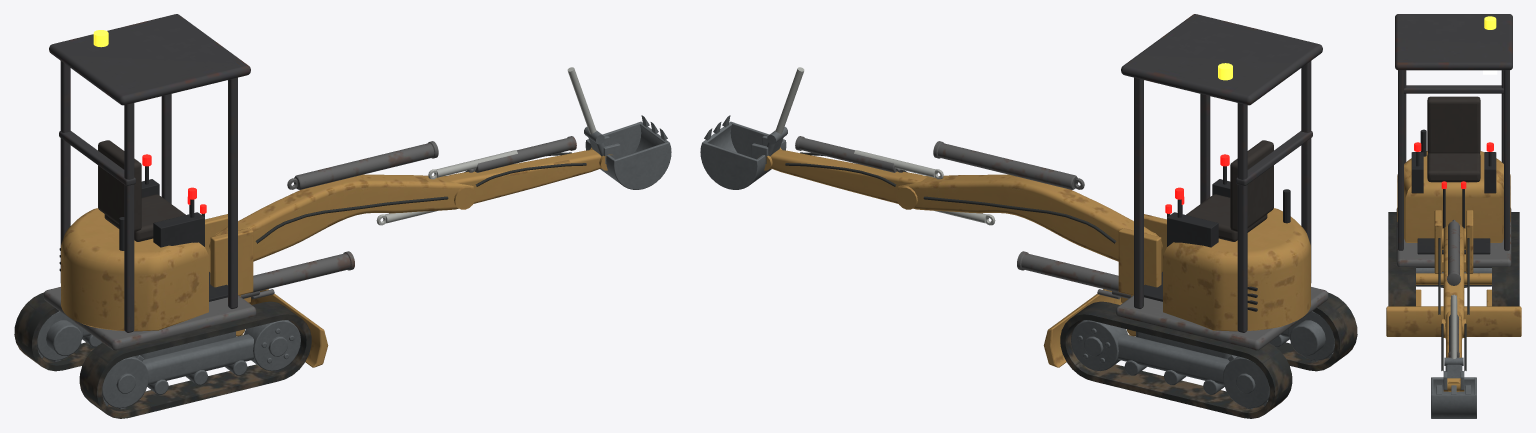
Rendered from minidigger_rusty.glb.
3 renders of one model, left to right at view 1: azimuth 30°, elevation 25°; view 2: azimuth 150°, elevation 25°; view 3: azimuth 270°, elevation 25°, orthographic. The views are drawn at different scales.
Visible parts, largest first — view 1: Canopy, HouseBody, TrackBand, BoomBody, Undercarriage, StickBody, BucketBody, Seat, Deck, BoomMount, StickRam, Controls (+8 smaller); view 2: Canopy, HouseBody, TrackBand, BoomBody, Undercarriage, StickBody, BucketBody, Seat, Deck, BoomMount, StickRam, Controls (+8 smaller); view 3: Canopy, HouseBody, Seat, BladeBody, TrackBand, Controls, BucketBody, Deck, BoomBody, BoomMount, StickRam, StickBody (+12 smaller).
Part boxes in pixels (box(x1,y1,x2,y2)): Canopy: box(49, 14, 250, 332); HouseBody: box(61, 208, 208, 331); TrackBand: box(14, 292, 311, 418); BoomBody: box(209, 174, 475, 261); Undercarriage: box(46, 320, 253, 394); StickBody: box(445, 147, 612, 203); BucketBody: box(585, 121, 671, 189); Seat: box(98, 140, 185, 241); Deck: box(43, 287, 256, 350); BoomMount: box(205, 214, 253, 296); StickRam: box(287, 141, 438, 189); Controls: box(141, 166, 227, 301); Canopy: box(1121, 14, 1322, 332); HouseBody: box(1163, 208, 1310, 331); TrackBand: box(1060, 292, 1357, 418); BoomBody: box(896, 174, 1162, 261); Undercarriage: box(1118, 320, 1325, 394); StickBody: box(764, 147, 926, 203); BucketBody: box(700, 121, 786, 189); Seat: box(1186, 140, 1273, 241); Deck: box(1115, 287, 1328, 350); BoomMount: box(1118, 214, 1166, 296); StickRam: box(933, 141, 1084, 189); Controls: box(1144, 166, 1230, 301); Canopy: box(1395, 14, 1512, 250); HouseBody: box(1397, 151, 1510, 242); Seat: box(1427, 96, 1480, 182); BladeBody: box(1386, 273, 1521, 336); TrackBand: box(1388, 212, 1519, 306); Controls: box(1411, 152, 1496, 254); BucketBody: box(1431, 371, 1476, 418); Deck: box(1396, 208, 1511, 267); BoomBody: box(1442, 224, 1465, 338); BoomMount: box(1434, 210, 1473, 273); StickRam: box(1447, 220, 1460, 285); StickBody: box(1443, 311, 1464, 391).
Bounding box in the file's own units: 4.59 × 2.4 × 1.12.
Materials: 25 (22 with a texture image).
